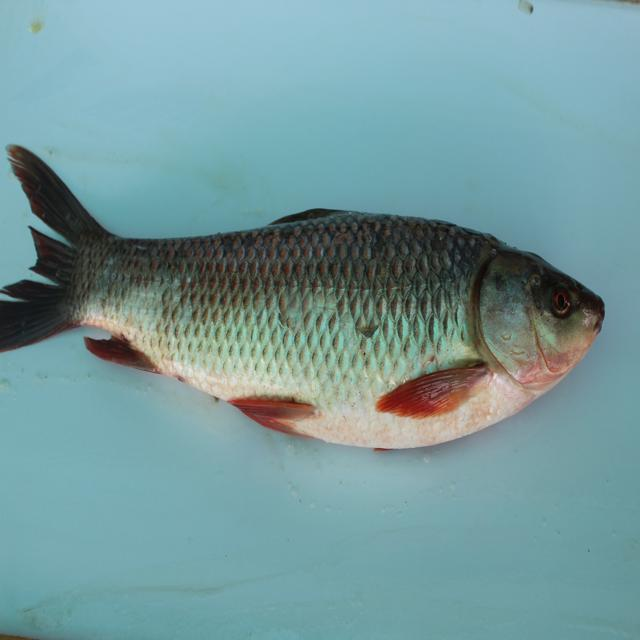Rohu: (10, 130, 619, 459)
